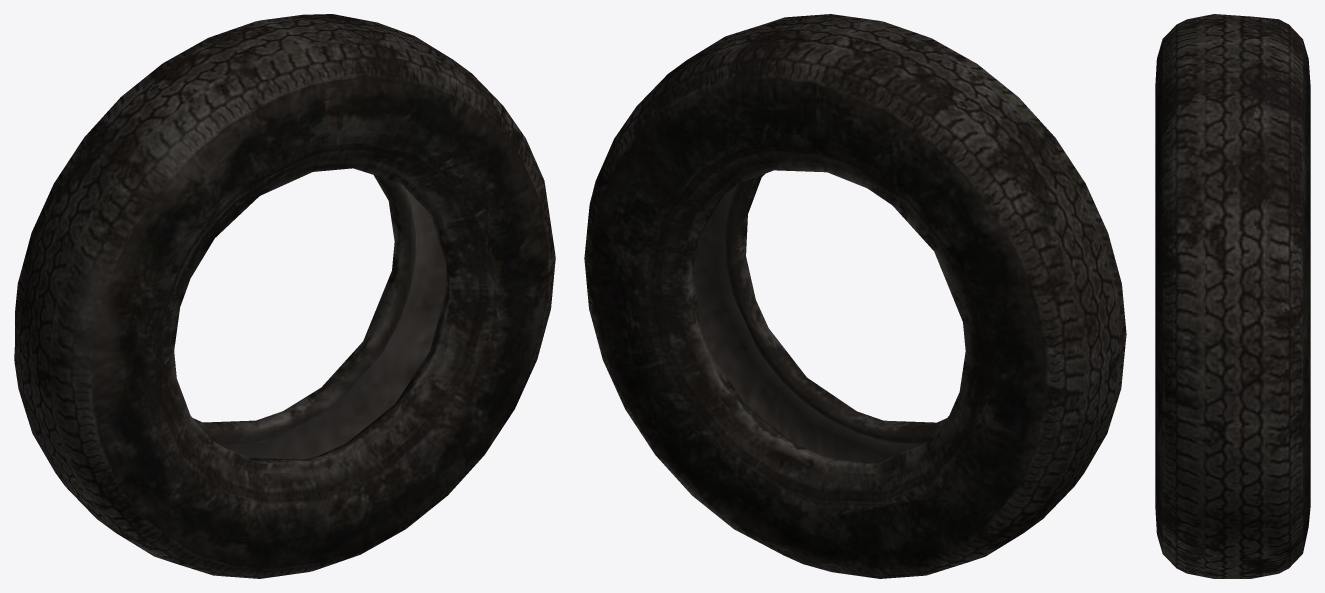
File: old_tyre.glb
The picture shows the model from 3 angles, left to right: view 1: azimuth 30°, elevation 25°; view 2: azimuth 150°, elevation 25°; view 3: azimuth 270°, elevation 25°; orthographic projection. The views are drawn at different scales.
Parts seen in each view (by area): view 1: old_tyre; view 2: old_tyre; view 3: old_tyre.
Boxes of the visible parts, left/top/right/bottom form: old_tyre: left=14, top=14, right=555, bottom=578; old_tyre: left=584, top=14, right=1126, bottom=578; old_tyre: left=1155, top=14, right=1310, bottom=578.
Size of the model in its own units: 0.6 by 0.6 by 0.165.
1 material, 1 textured.
